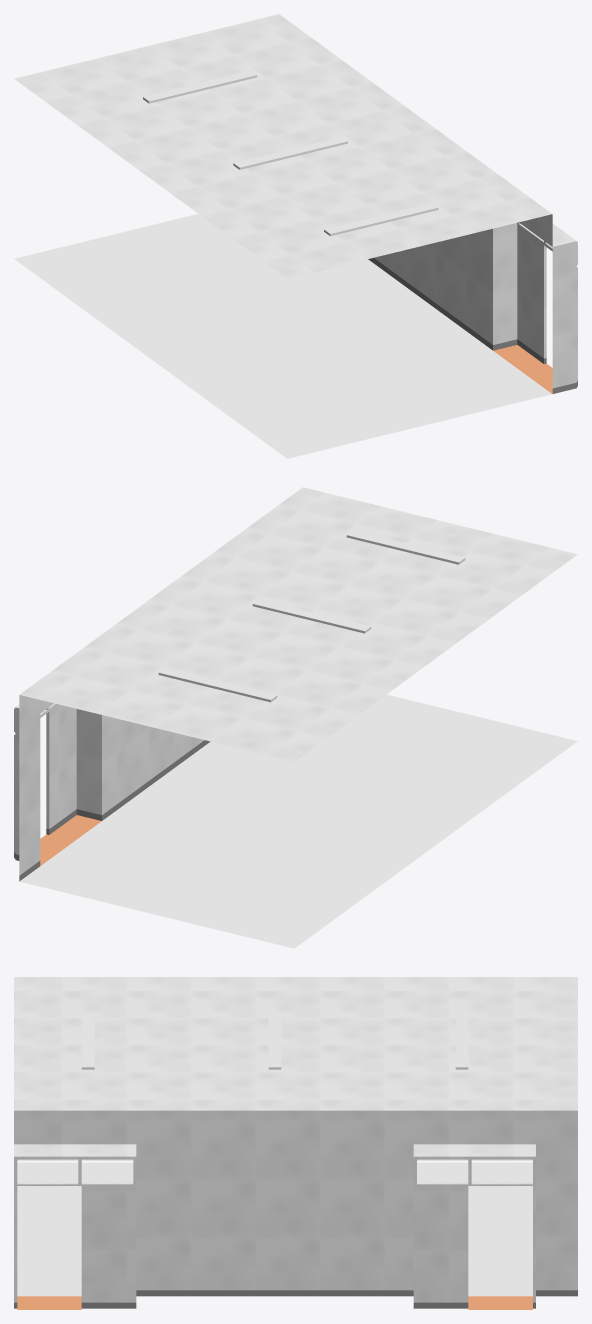
File: rouka.fbx
3 renders of one model, top to bottom at view 1: azimuth 30°, elevation 25°; view 2: azimuth 150°, elevation 25°; view 3: azimuth 270°, elevation 25°, orthographic. The views are drawn at different scales.
Parts seen in each view (by area): view 1: rouka; view 2: rouka; view 3: rouka.
Part boxes in pixels (x1,y1,x2,y2): rouka: [14, 14, 577, 458]; rouka: [14, 487, 577, 948]; rouka: [14, 977, 577, 1309].
Size of the model in its own units: 540 by 322 by 875.
